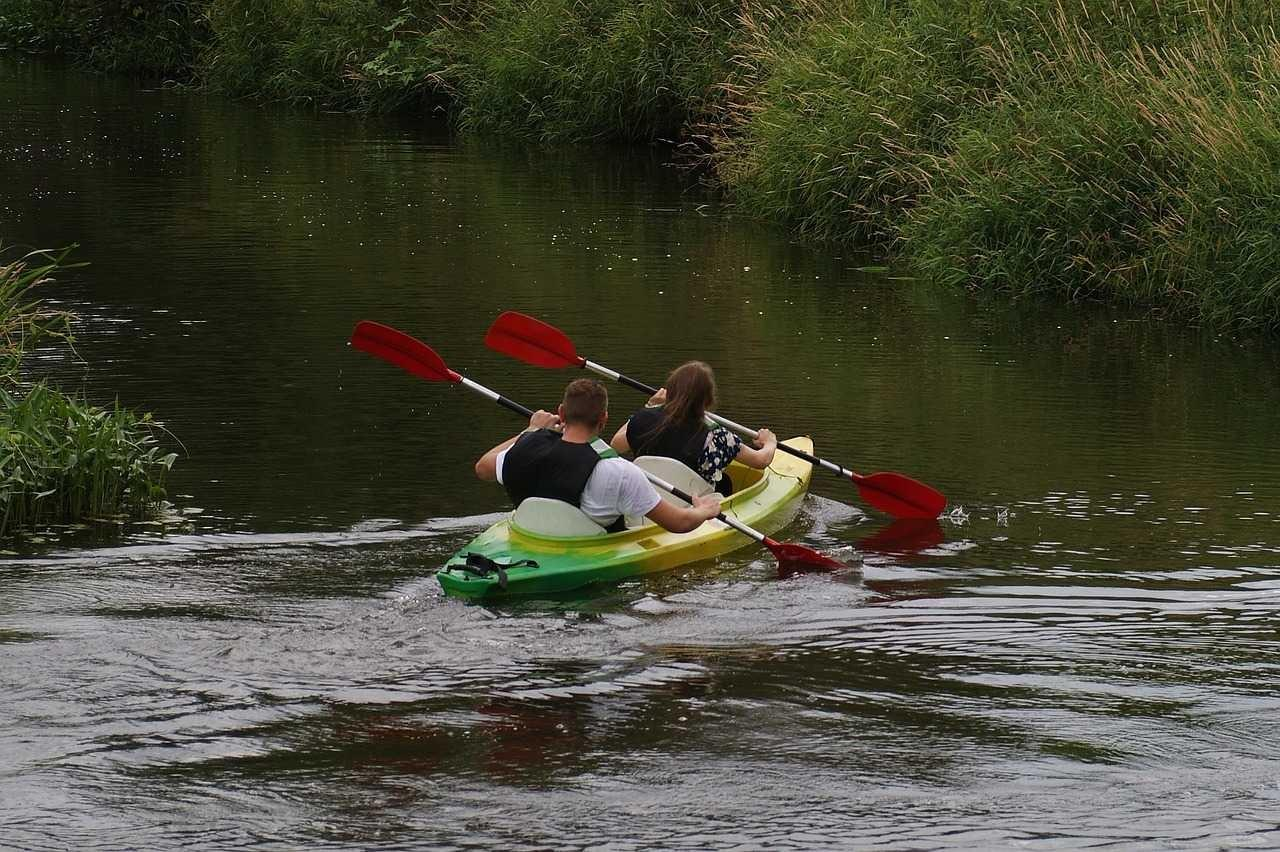kayak: (438, 433, 813, 600)
